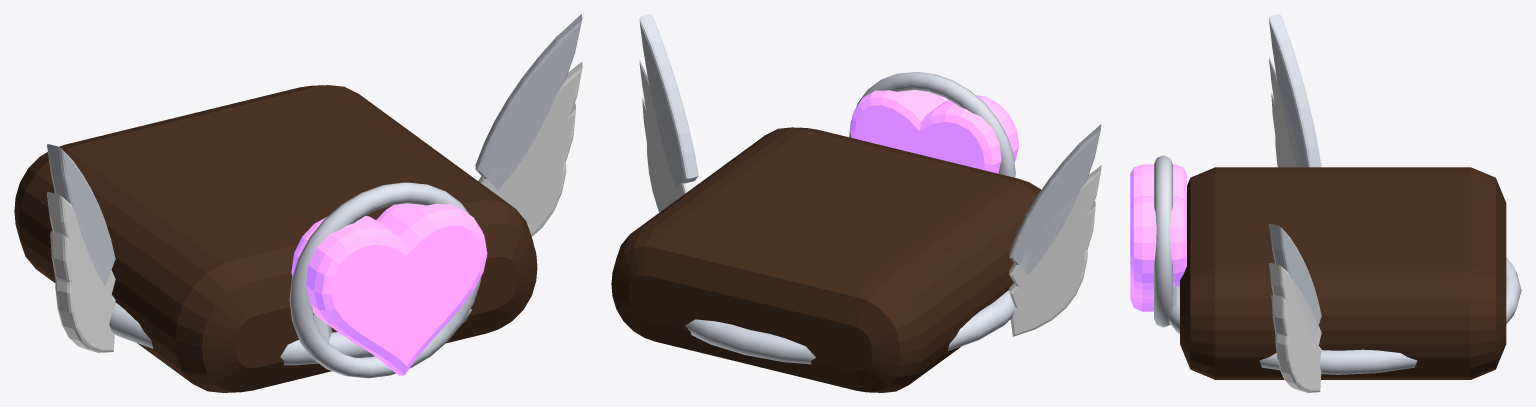
File: hat_eqmo2.glb
The picture shows the model from 3 angles, left to right: view 1: azimuth 30°, elevation 25°; view 2: azimuth 150°, elevation 25°; view 3: azimuth 270°, elevation 25°; orthographic projection. The views are drawn at different scales.
Bounding box in the file's own units: 3.08 × 1.4 × 2.4.
